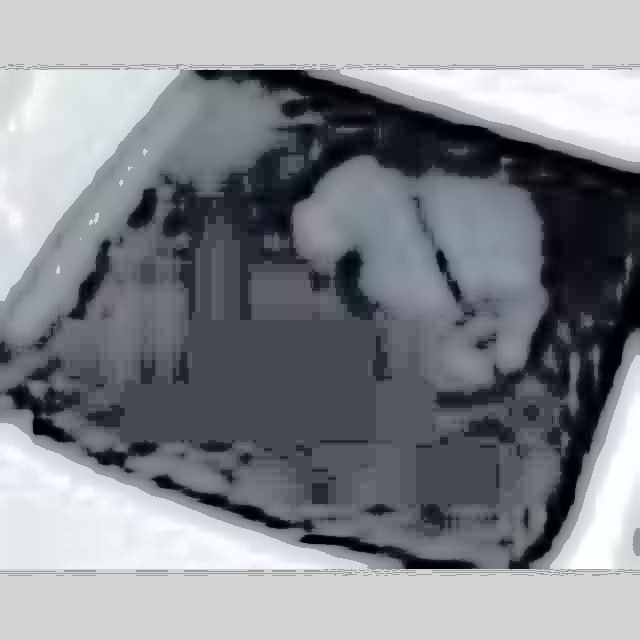pakai: (312, 148, 546, 406)
